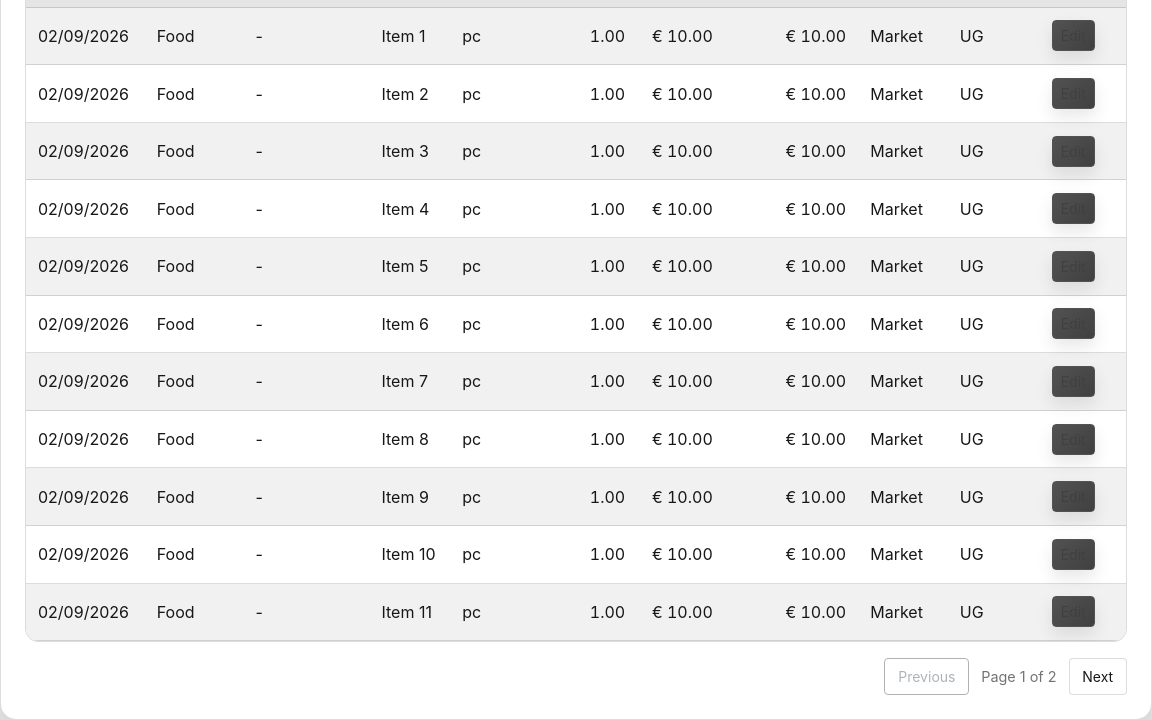
Test case: ExpenseForm unit tests › shows eleven expenses per page
The width and height of the screenshot is (1152, 720).
(page scrolled)
Check: the text "Item 1" is shown, box [370,8,450,65]
Check: the text "Item 11" is shown, box [370,584,450,641]
Click the button "Next" at {"x": 1098, "y": 677}, box [1068,658,1127,695]
(page scrolled)
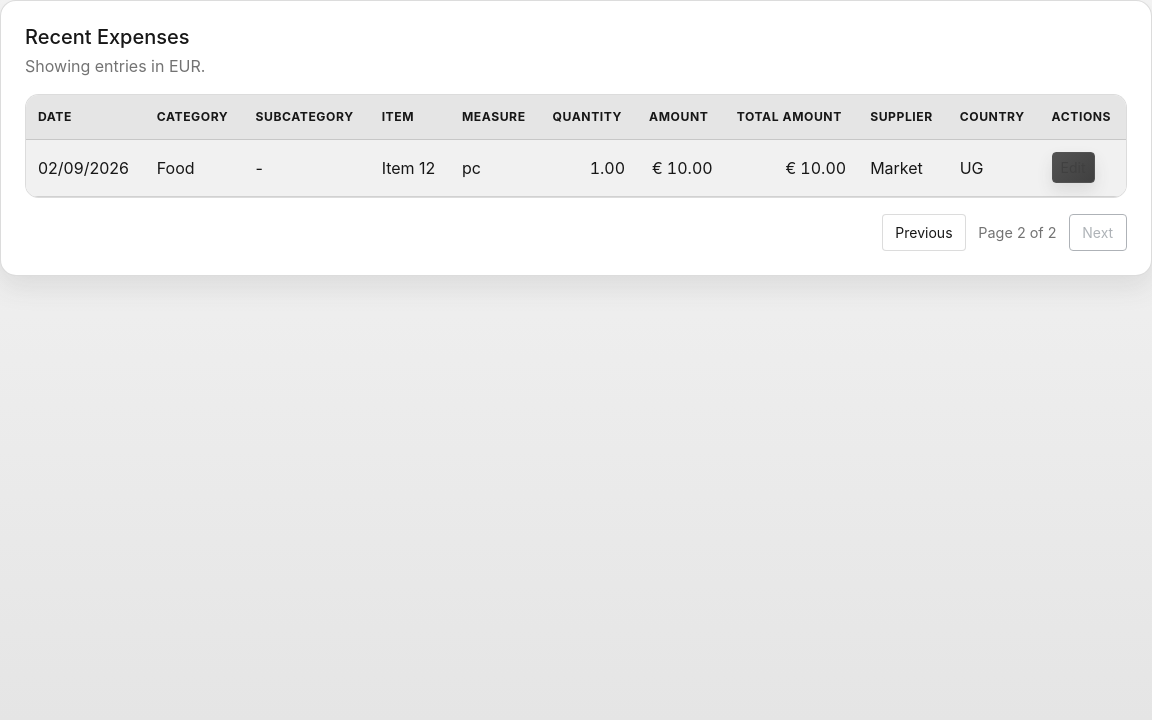
Check: the text "Item 12" is shown, box [370,140,450,197]
Check: the text "Page 2 of 2" is shown, box [978,222,1056,243]
